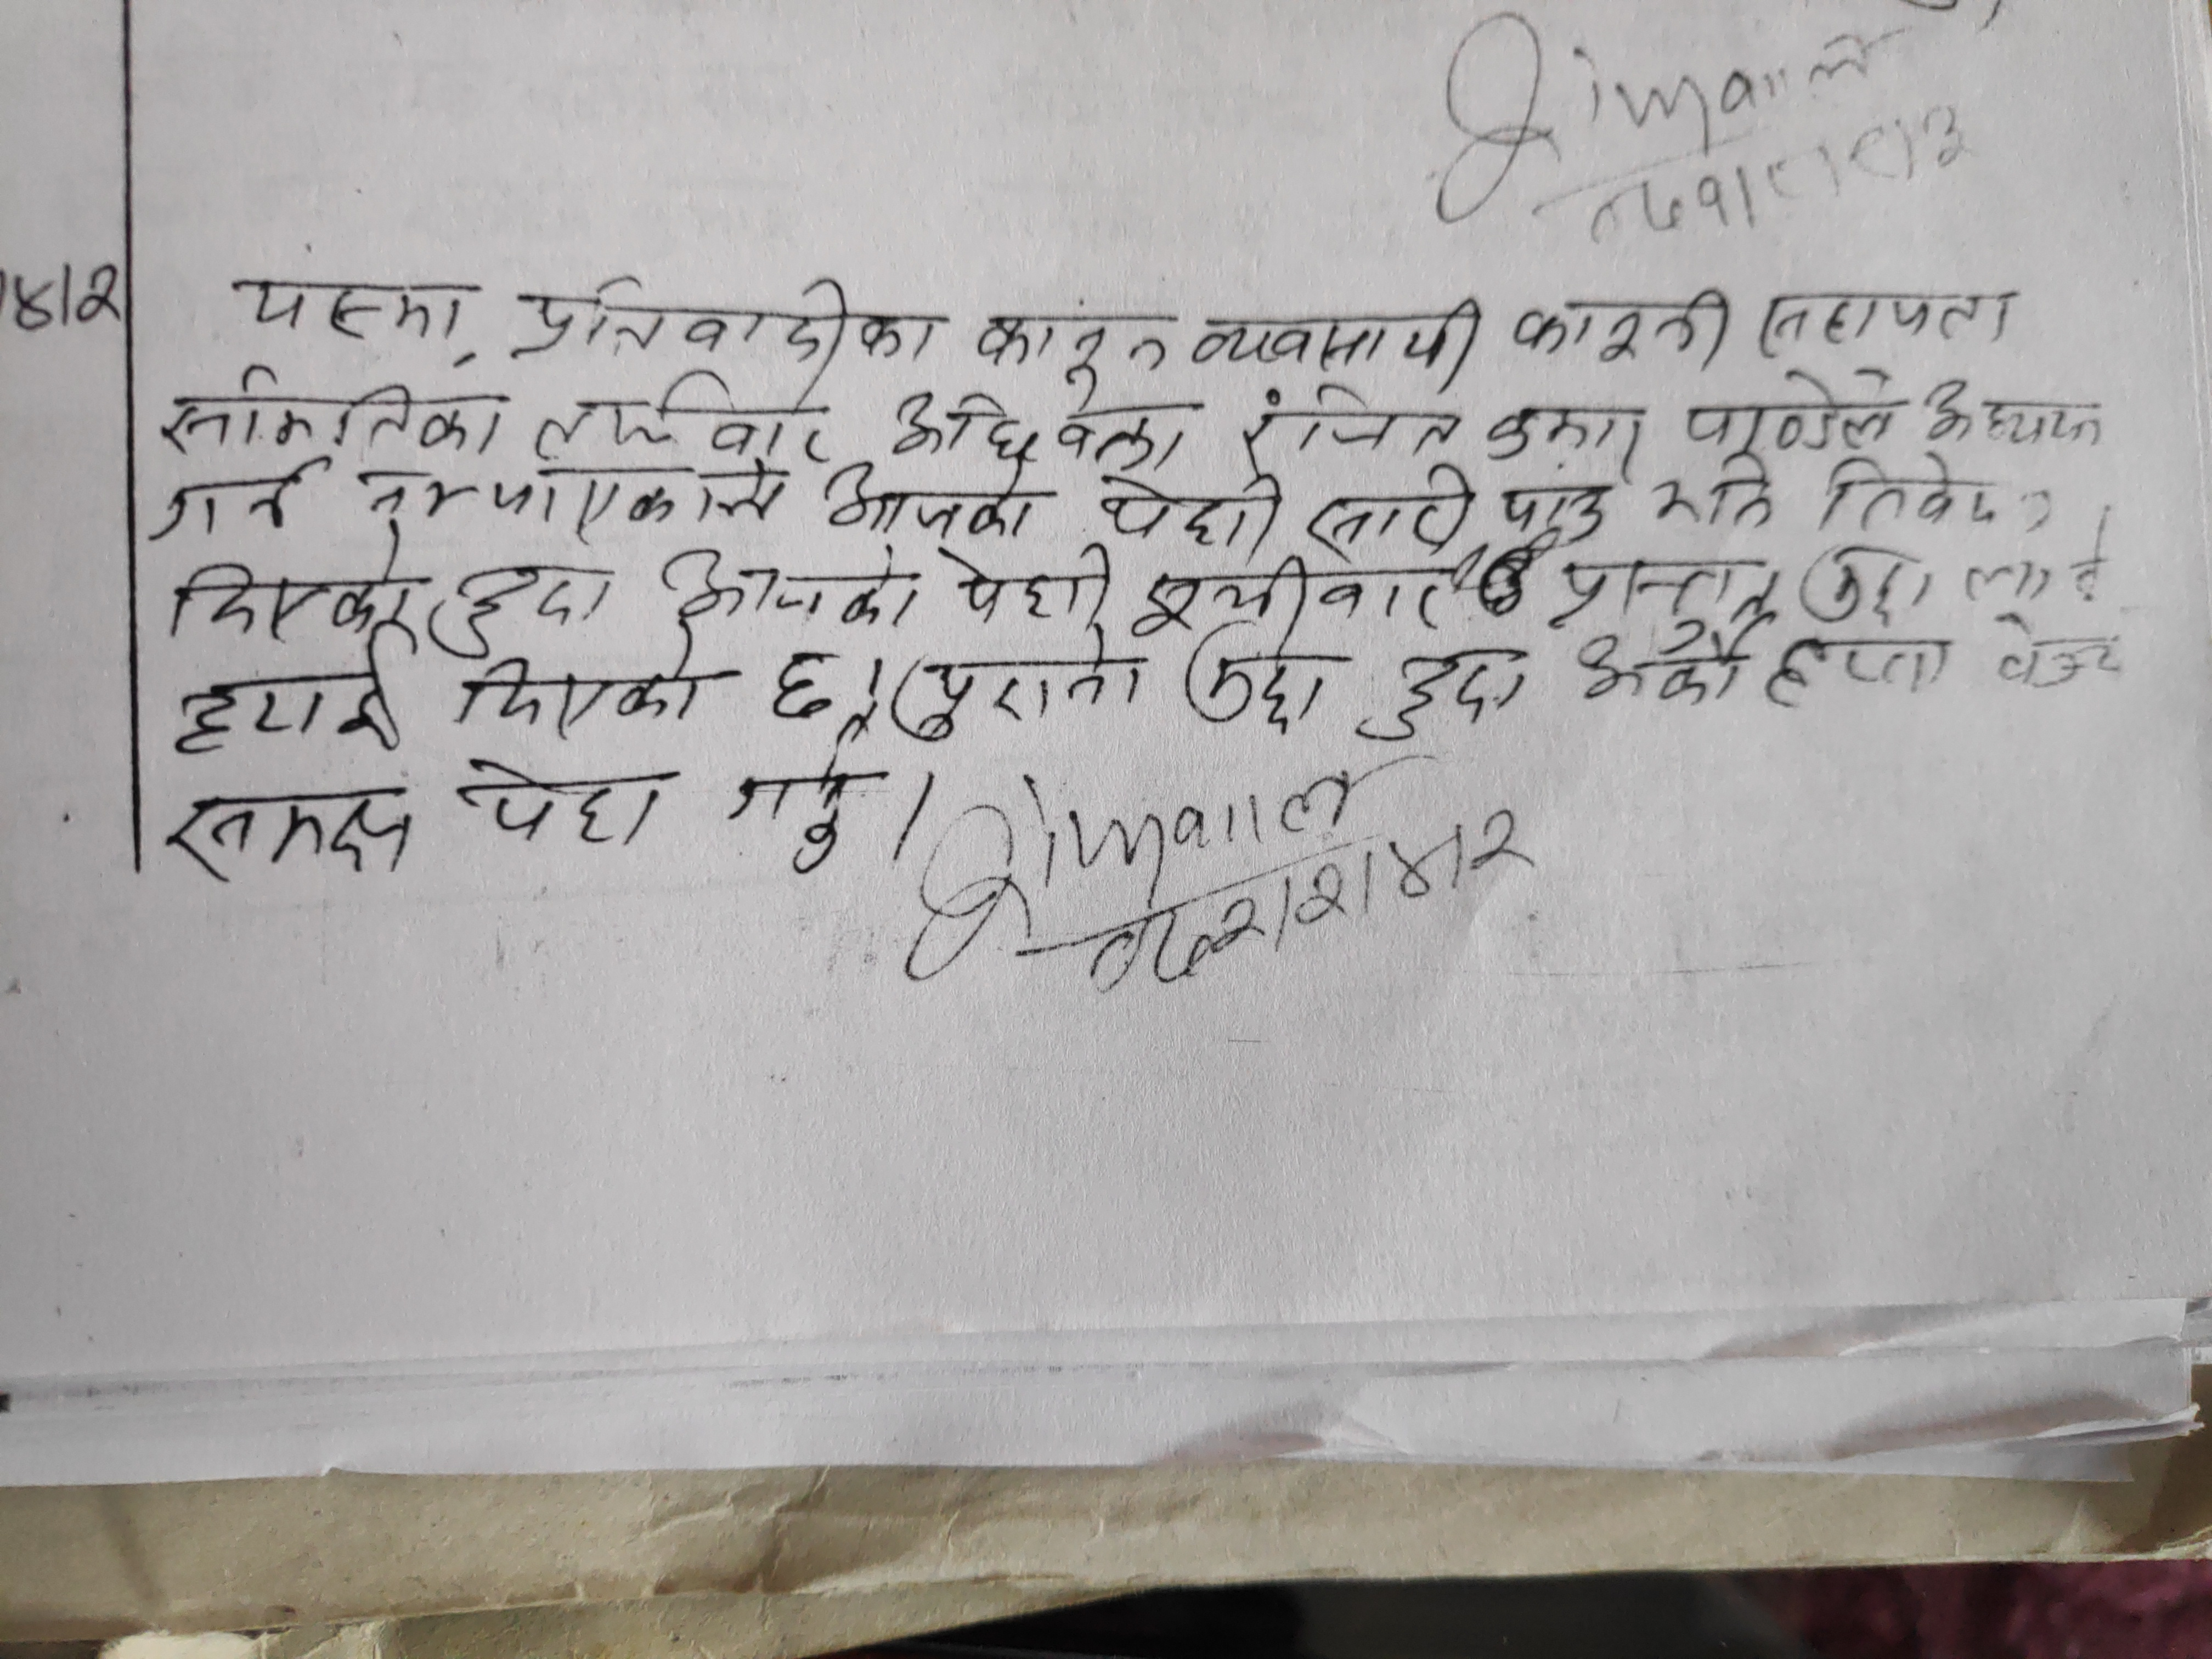text: (507, 267, 941, 375), (355, 453, 794, 533), (153, 357, 517, 453), (521, 357, 838, 465), (888, 624, 1151, 748), (164, 777, 421, 892), (169, 634, 411, 756), (1179, 281, 1489, 375), (662, 519, 923, 629), (1129, 558, 1463, 638), (158, 537, 408, 640), (1676, 357, 1909, 460), (451, 748, 676, 854), (1754, 275, 2026, 362), (226, 267, 484, 352), (1540, 547, 1782, 638), (1231, 376, 1461, 471), (451, 652, 712, 734), (808, 460, 1050, 547), (967, 291, 1176, 390), (1508, 279, 1735, 369), (721, 735, 866, 877), (1176, 627, 1352, 739), (1301, 453, 1480, 561), (1810, 462, 2057, 538), (1094, 467, 1289, 563), (1763, 620, 1954, 714), (880, 361, 1043, 471), (150, 453, 340, 547), (432, 558, 622, 652), (1925, 362, 2106, 451), (1372, 643, 1538, 739), (1571, 629, 1759, 711), (1482, 385, 1649, 471), (1986, 601, 2134, 697), (1796, 542, 1944, 633), (934, 547, 1113, 620), (1954, 533, 2134, 606), (1653, 453, 1778, 547), (1052, 401, 1200, 476), (1500, 465, 1625, 552), (759, 634, 843, 725)
